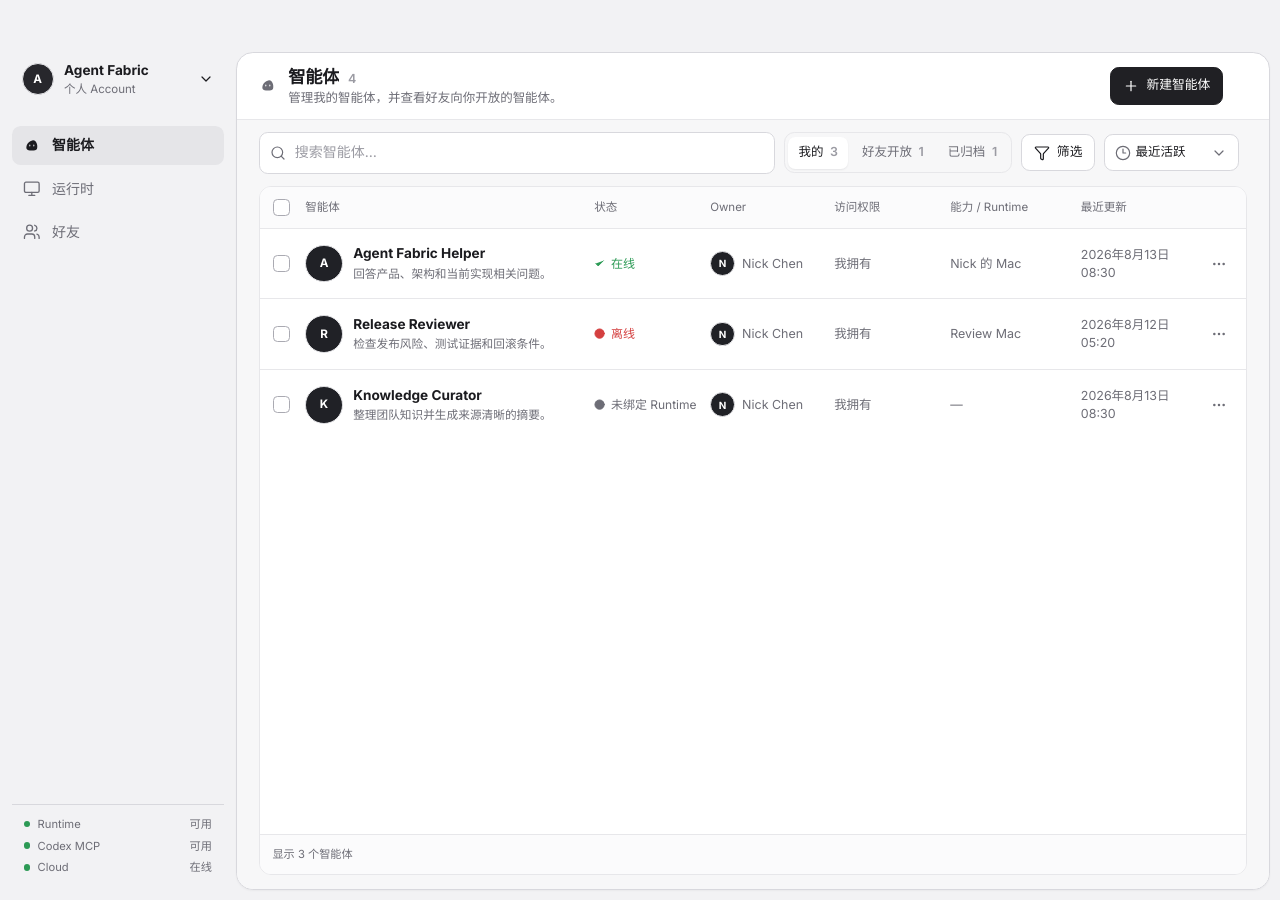
Test: Account-scoped product Renderer › shows friend invitations and relationships without Account roles
Click the button "运行时" at (118, 189), box [12,169,224,208]
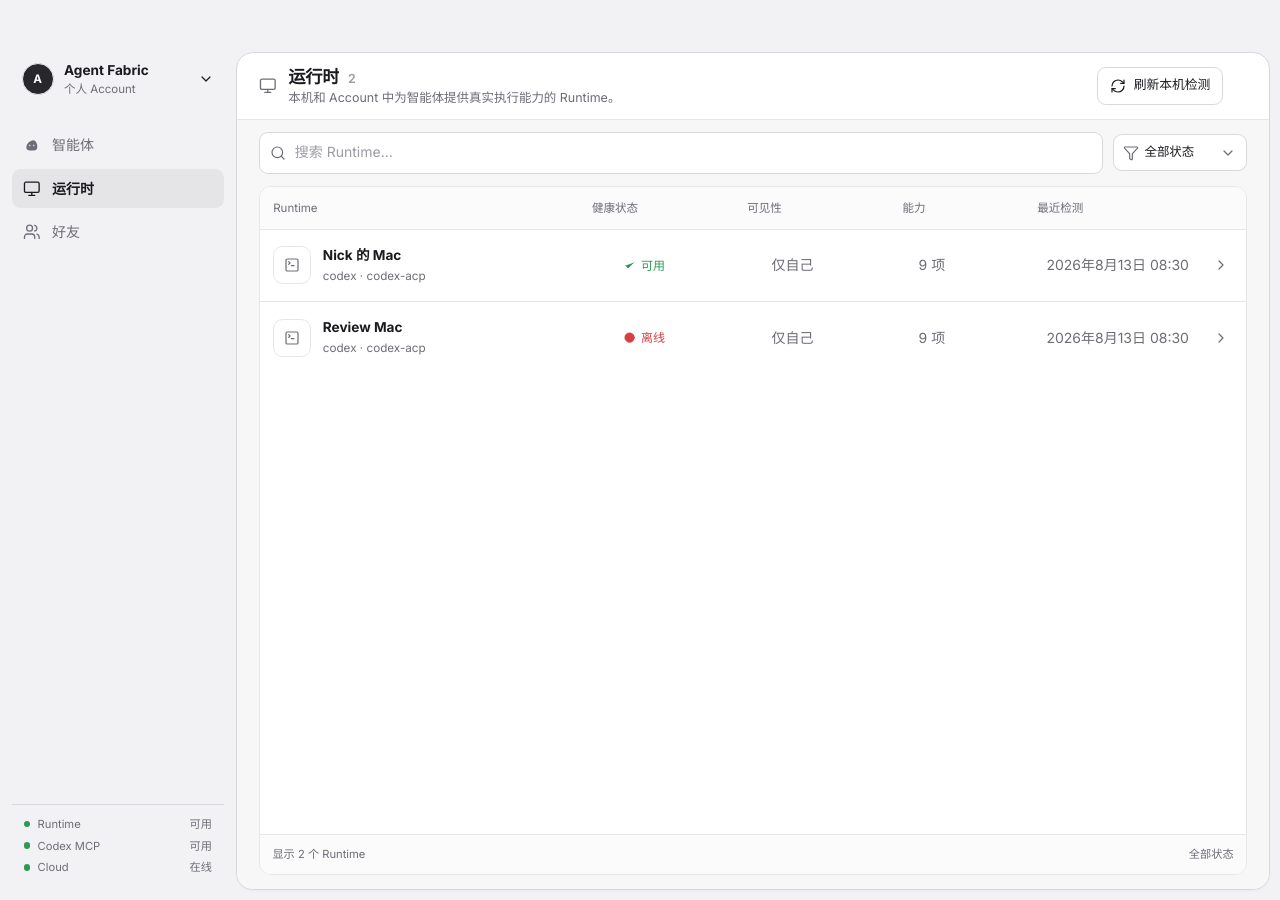
Expected: the text "Nick 的 Mac" is shown, [323,247,401,263]
Click the button "好友" at (118, 232), box [12,212,224,252]
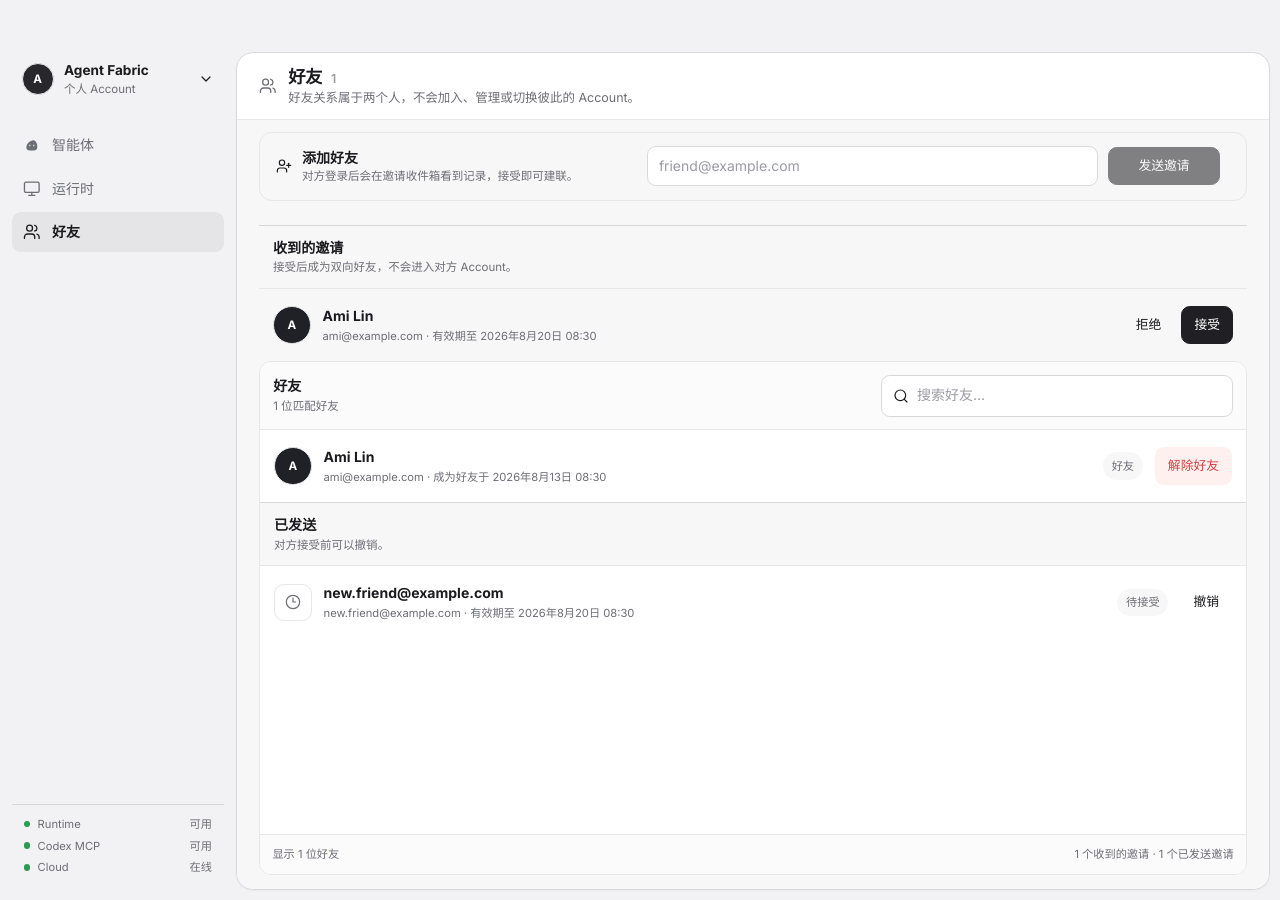
Expected: the 1st heading "好友" is shown, [288,64,322,89]
Expected: the field named "好友邮箱" is shown, [647,146,1098,186]
Expected: the element named "收到的好友邀请" is shown, [259,225,1247,361]
